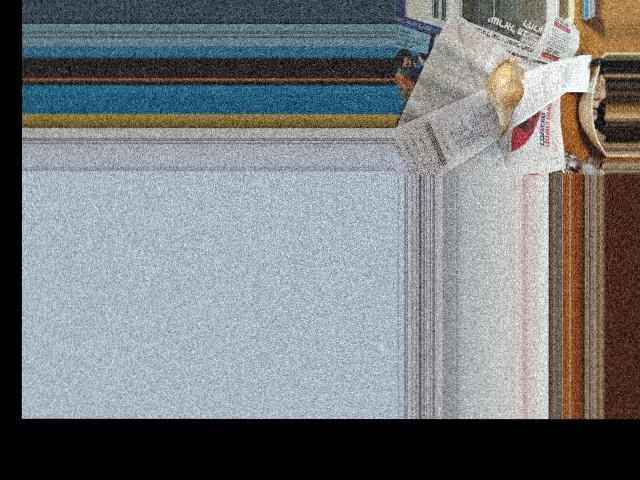onion: (484, 61, 525, 122)
